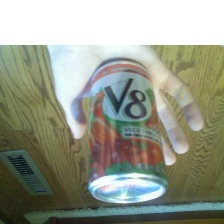can: (85, 59, 170, 206)
